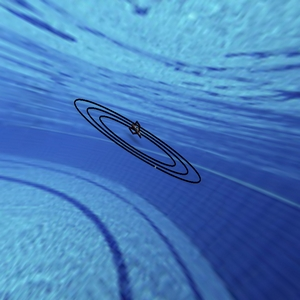circle: (64, 80, 214, 194)
submarine: (120, 115, 146, 141)
